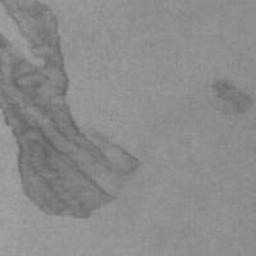Water spot: (0, 0, 142, 220), (207, 78, 255, 116)
